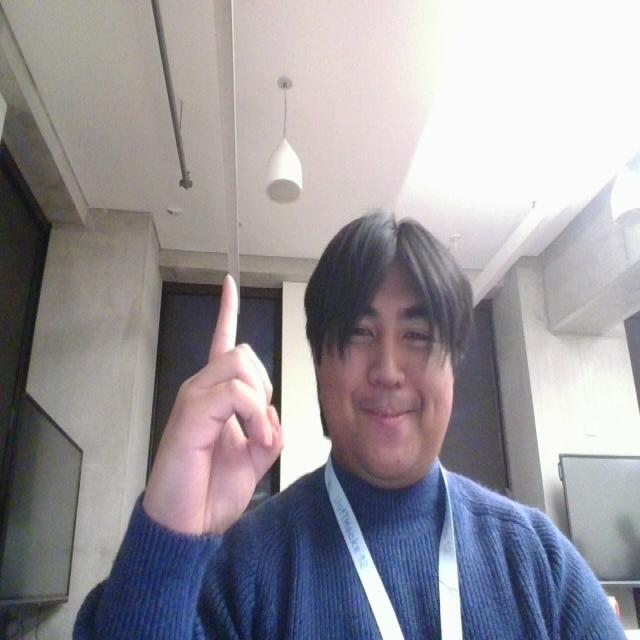Dsign: (134, 270, 290, 540)
